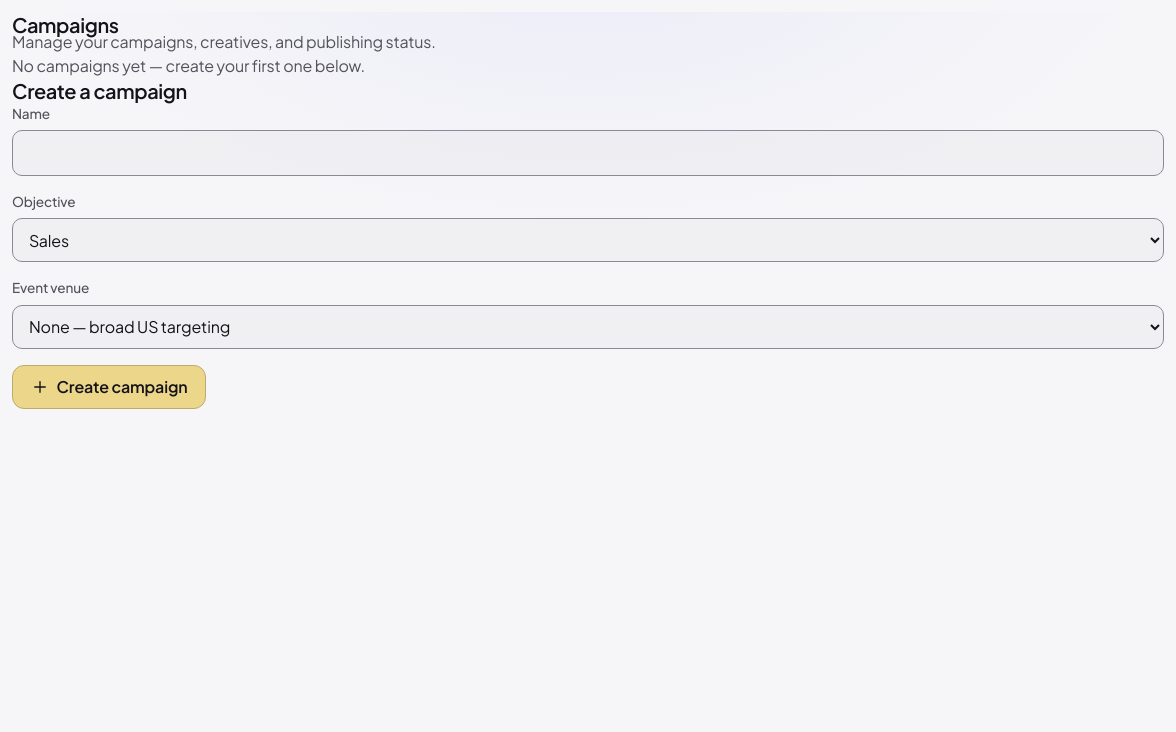
Scenario: CampaignsSection › creates an event-venue campaign with the selected venue and dates
Expected: the text "No campaigns yet — create your first one below." is shown, x1=12 y1=55 x2=365 y2=76
Select "JCK Las Vegas — Las Vegas Convention Center, NV" in the dropdown labelled "Event venue": x=588, y=327 x1=12 y1=304 x2=1164 y2=349
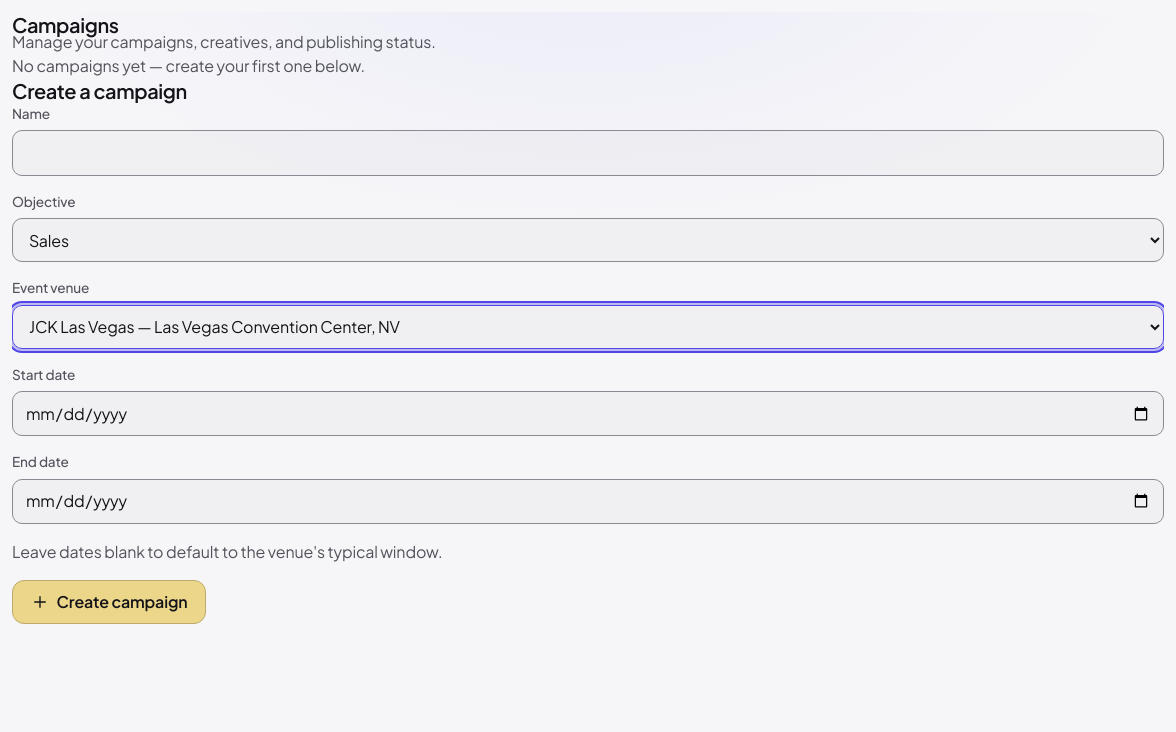
Expected: the date field labelled "Start date" is shown
In the date field labelled "Start date": x=588, y=414 x1=12 y1=391 x2=1164 y2=436, type "2027-06-01"
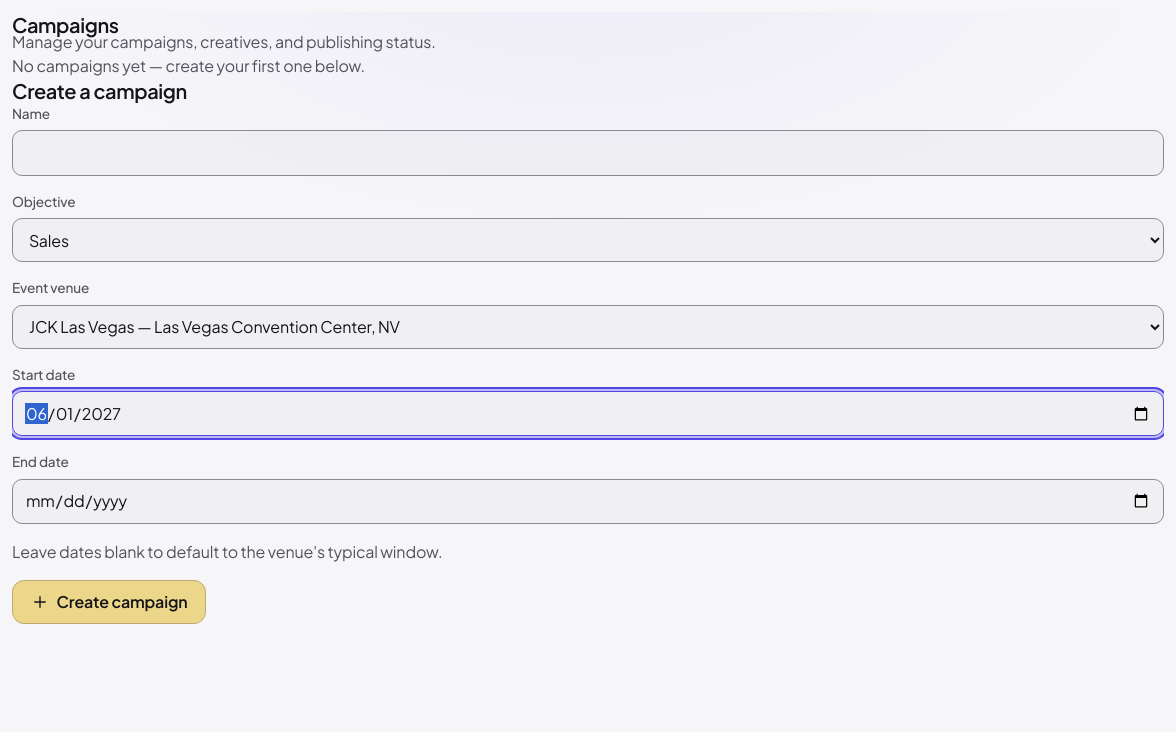
In the date field labelled "End date": x=588, y=501 x1=12 y1=479 x2=1164 y2=524, type "2027-06-04"
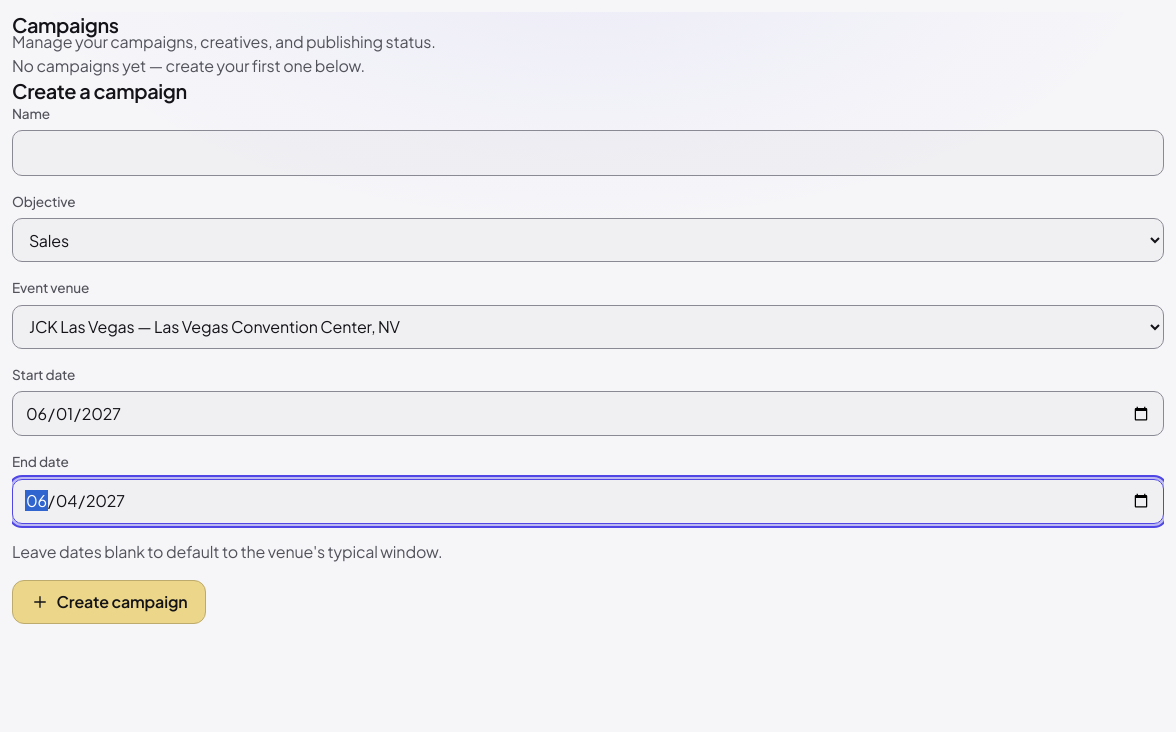
Click the button "Create campaign": x=109, y=602 x1=12 y1=580 x2=206 y2=624
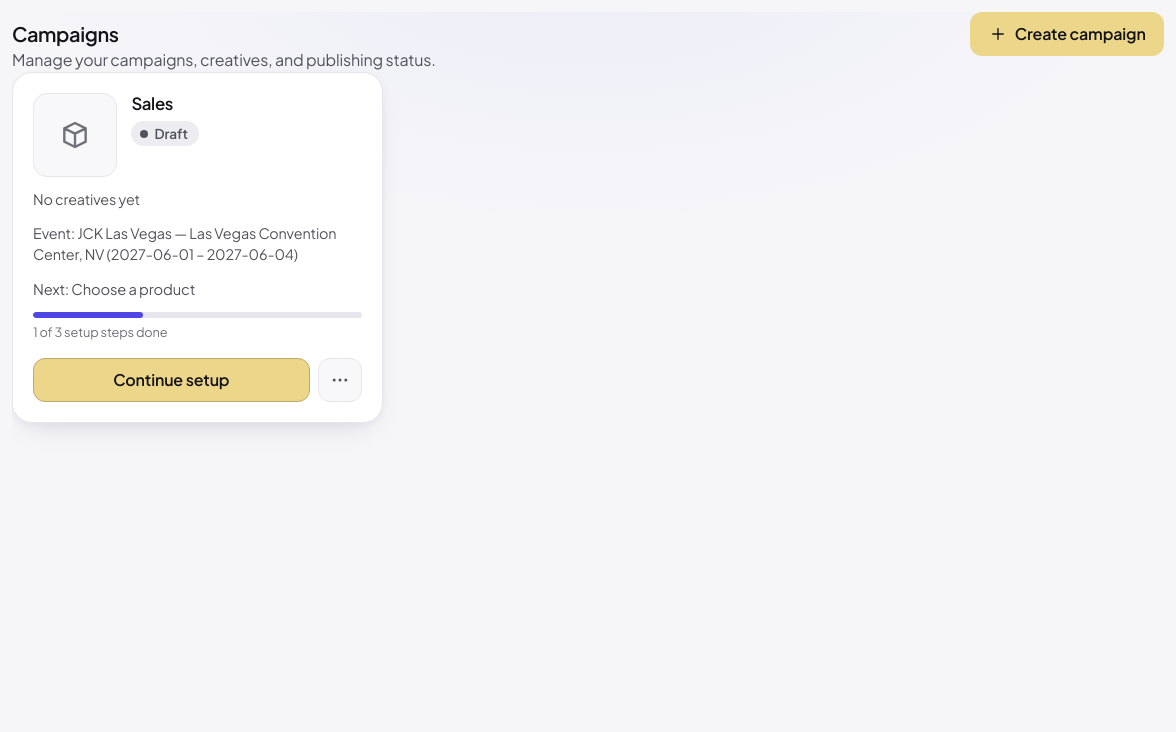
Expected: the text "Event: JCK Las Vegas" is shown, x1=33 y1=224 x2=336 y2=263
